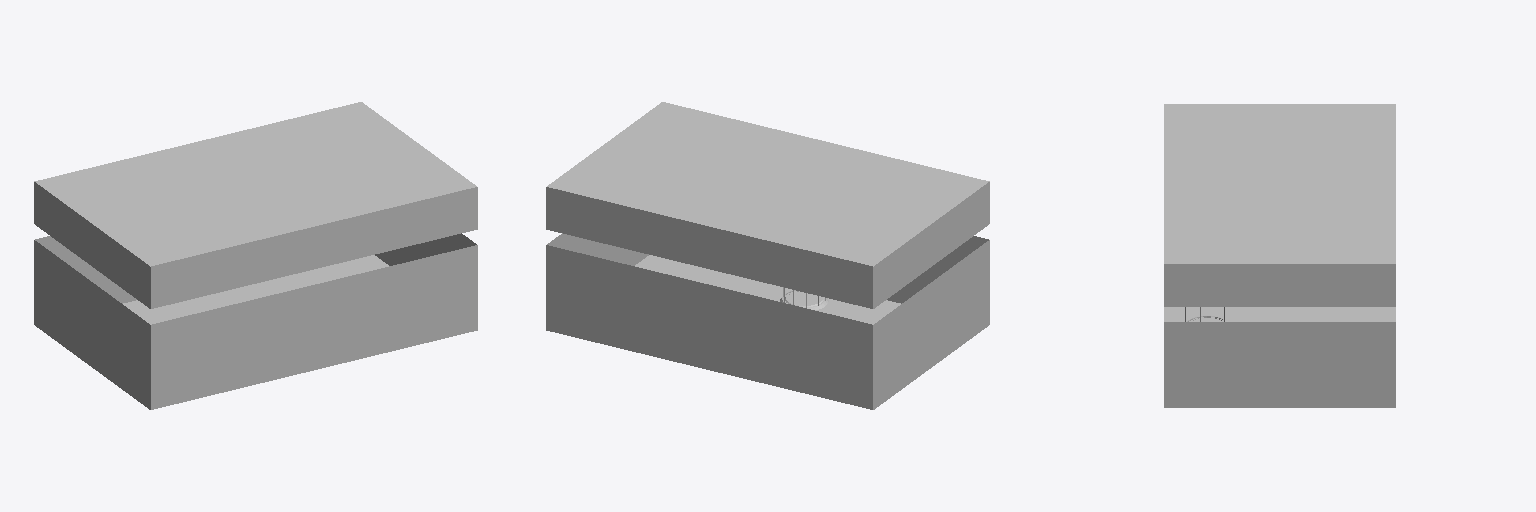
Rendered from Env.obj.
3 renders of one model, left to right at view 1: azimuth 30°, elevation 25°; view 2: azimuth 150°, elevation 25°; view 3: azimuth 270°, elevation 25°, orthographic.
Visible parts, largest first — view 1: Cube_Cube.002; view 2: Cube_Cube.002, Cylinder.002_Cylinder.003; view 3: Cube_Cube.002.
Boxes of the visible parts, x1=… form: Cube_Cube.002: x1=34, y1=102, x2=477, y2=409; Cube_Cube.002: x1=546, y1=102, x2=989, y2=409; Cylinder.002_Cylinder.003: x1=780, y1=290, x2=828, y2=309; Cube_Cube.002: x1=1164, y1=104, x2=1395, y2=407.
Size of the model in its own units: 12.48 by 5.24 by 7.68.